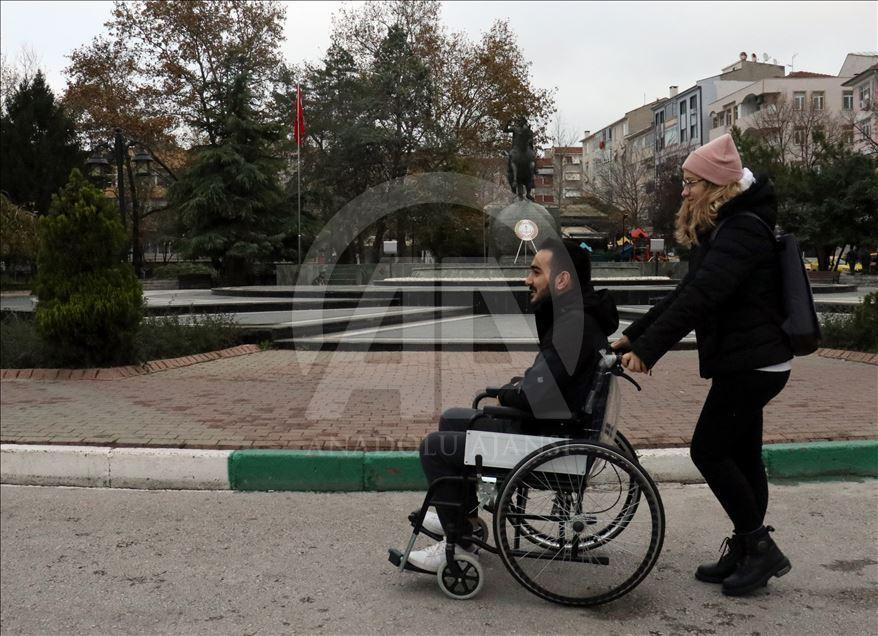push_wheelchair: (605, 133, 824, 596)
wheelchair: (388, 235, 666, 607)
